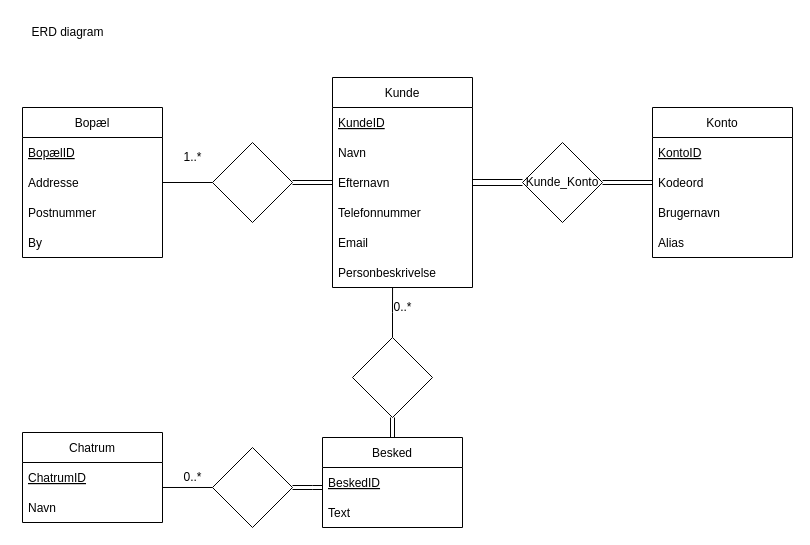
Some shapes in this 810 by 545 pixel diagram are drawn without their labels. The shapes that lost their labels are listed below. From the top down, each one's centre as x and y in pixels, then its label:
[252,182]: Kunde_bopæl
[392,377]: Kunde_besked
[252,487]: Chat_besked
